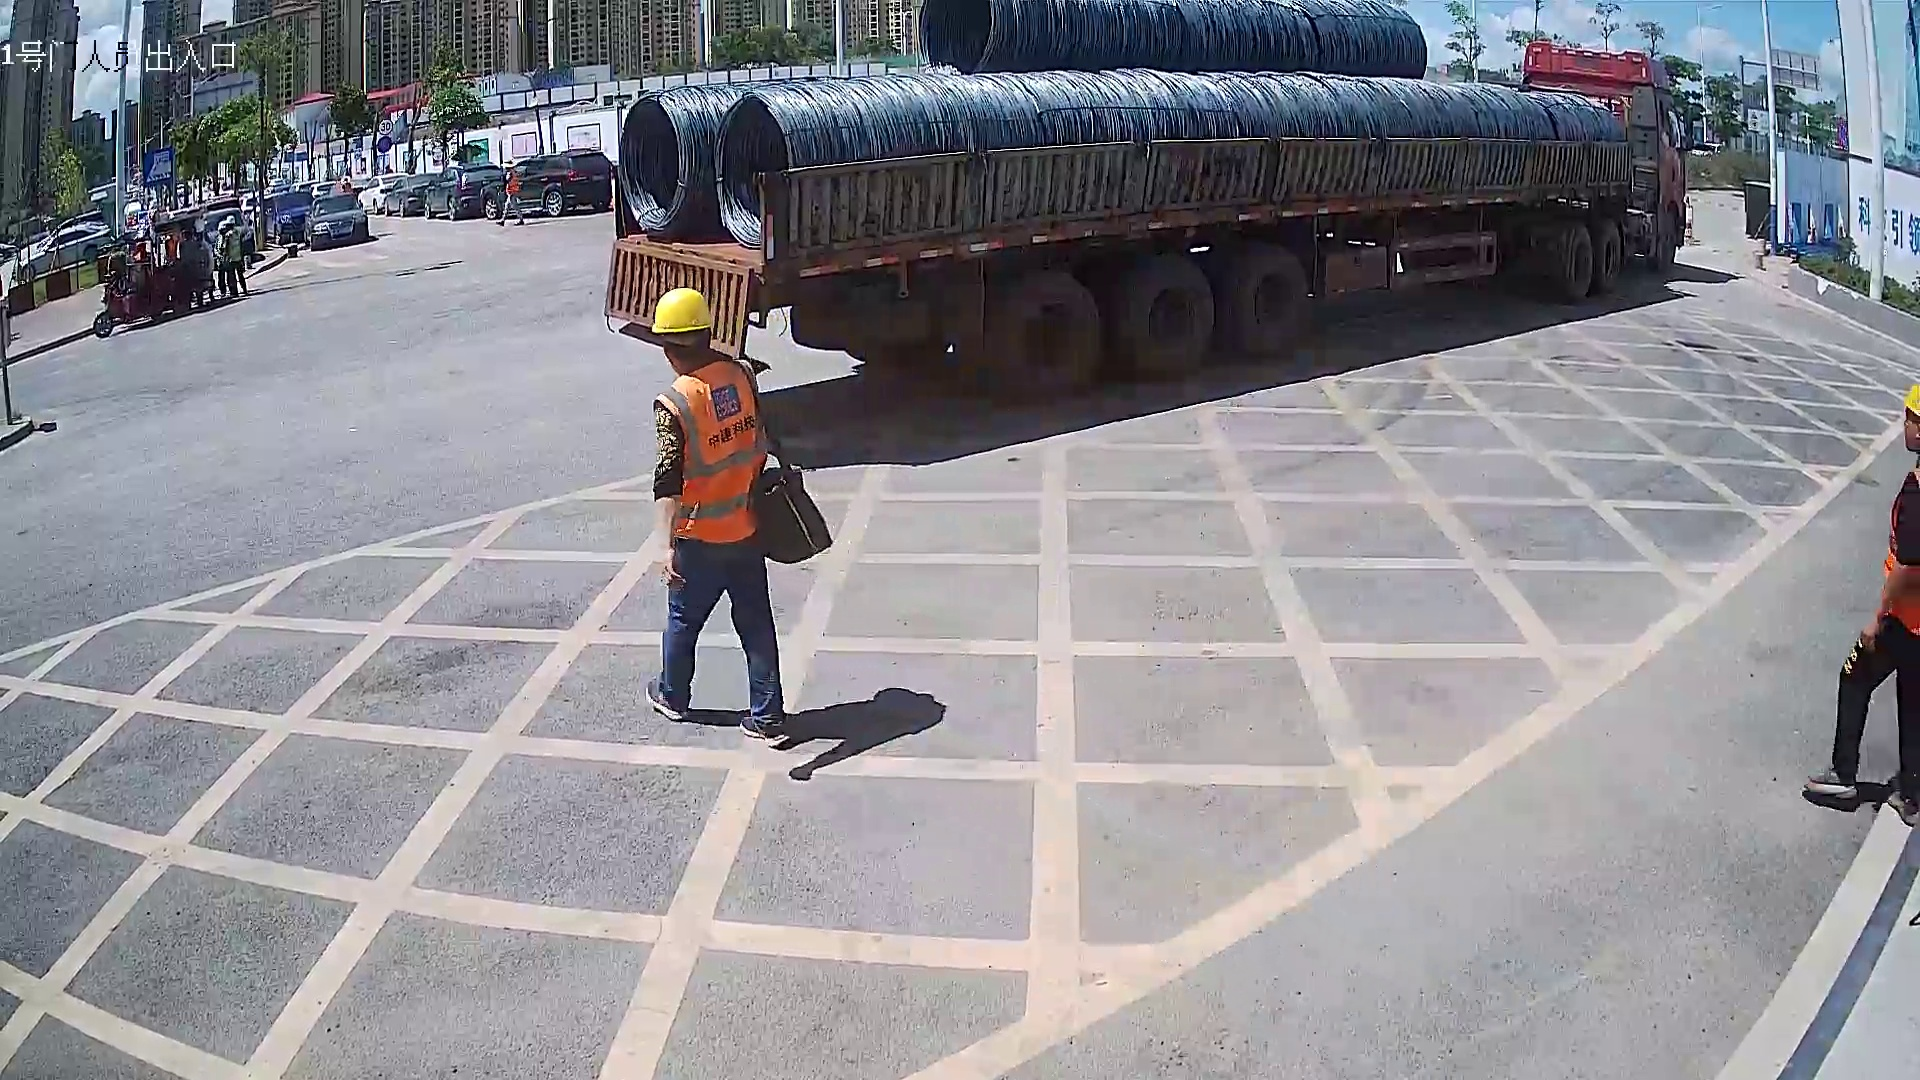person: (640, 282, 794, 751)
reflective_vest: (653, 355, 768, 545)
safety_helmet: (647, 285, 718, 378)
